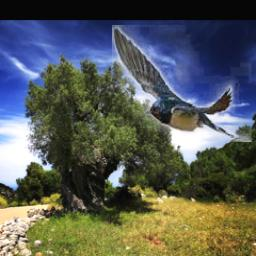Cuckoo: (91, 144, 108, 167)
Swallow: (113, 25, 253, 142)
